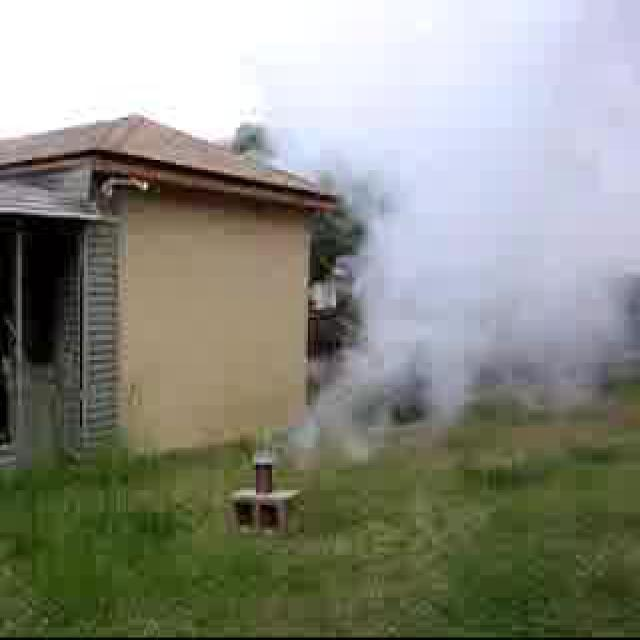Smoke: (354, 128, 612, 400)
